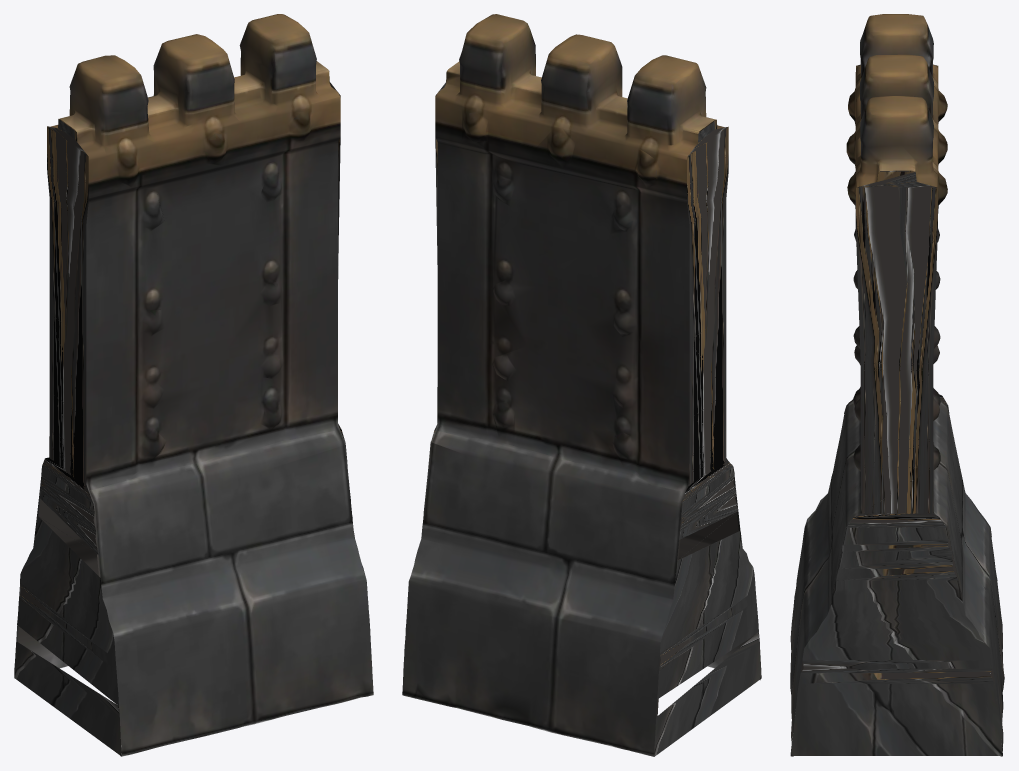
The model's file is SM_Tripo_InfernoRampartPlainPanel.glb.
3 views of the same model, side by side, from view 1: azimuth 30°, elevation 25°; view 2: azimuth 150°, elevation 25°; view 3: azimuth 270°, elevation 25° (orthographic).
Visible parts, largest first — view 1: SM_Tripo_InfernoRampartPlainPanel_LOD0; view 2: SM_Tripo_InfernoRampartPlainPanel_LOD0; view 3: SM_Tripo_InfernoRampartPlainPanel_LOD0.
Part boxes in pixels (x1,y1,x2,y2): SM_Tripo_InfernoRampartPlainPanel_LOD0: [14, 14, 373, 756]; SM_Tripo_InfernoRampartPlainPanel_LOD0: [402, 14, 761, 756]; SM_Tripo_InfernoRampartPlainPanel_LOD0: [790, 14, 1004, 756].
Size of the model in its own units: 3.6 by 8.75 by 2.68.
Materials: 1 (1 with a texture image).
